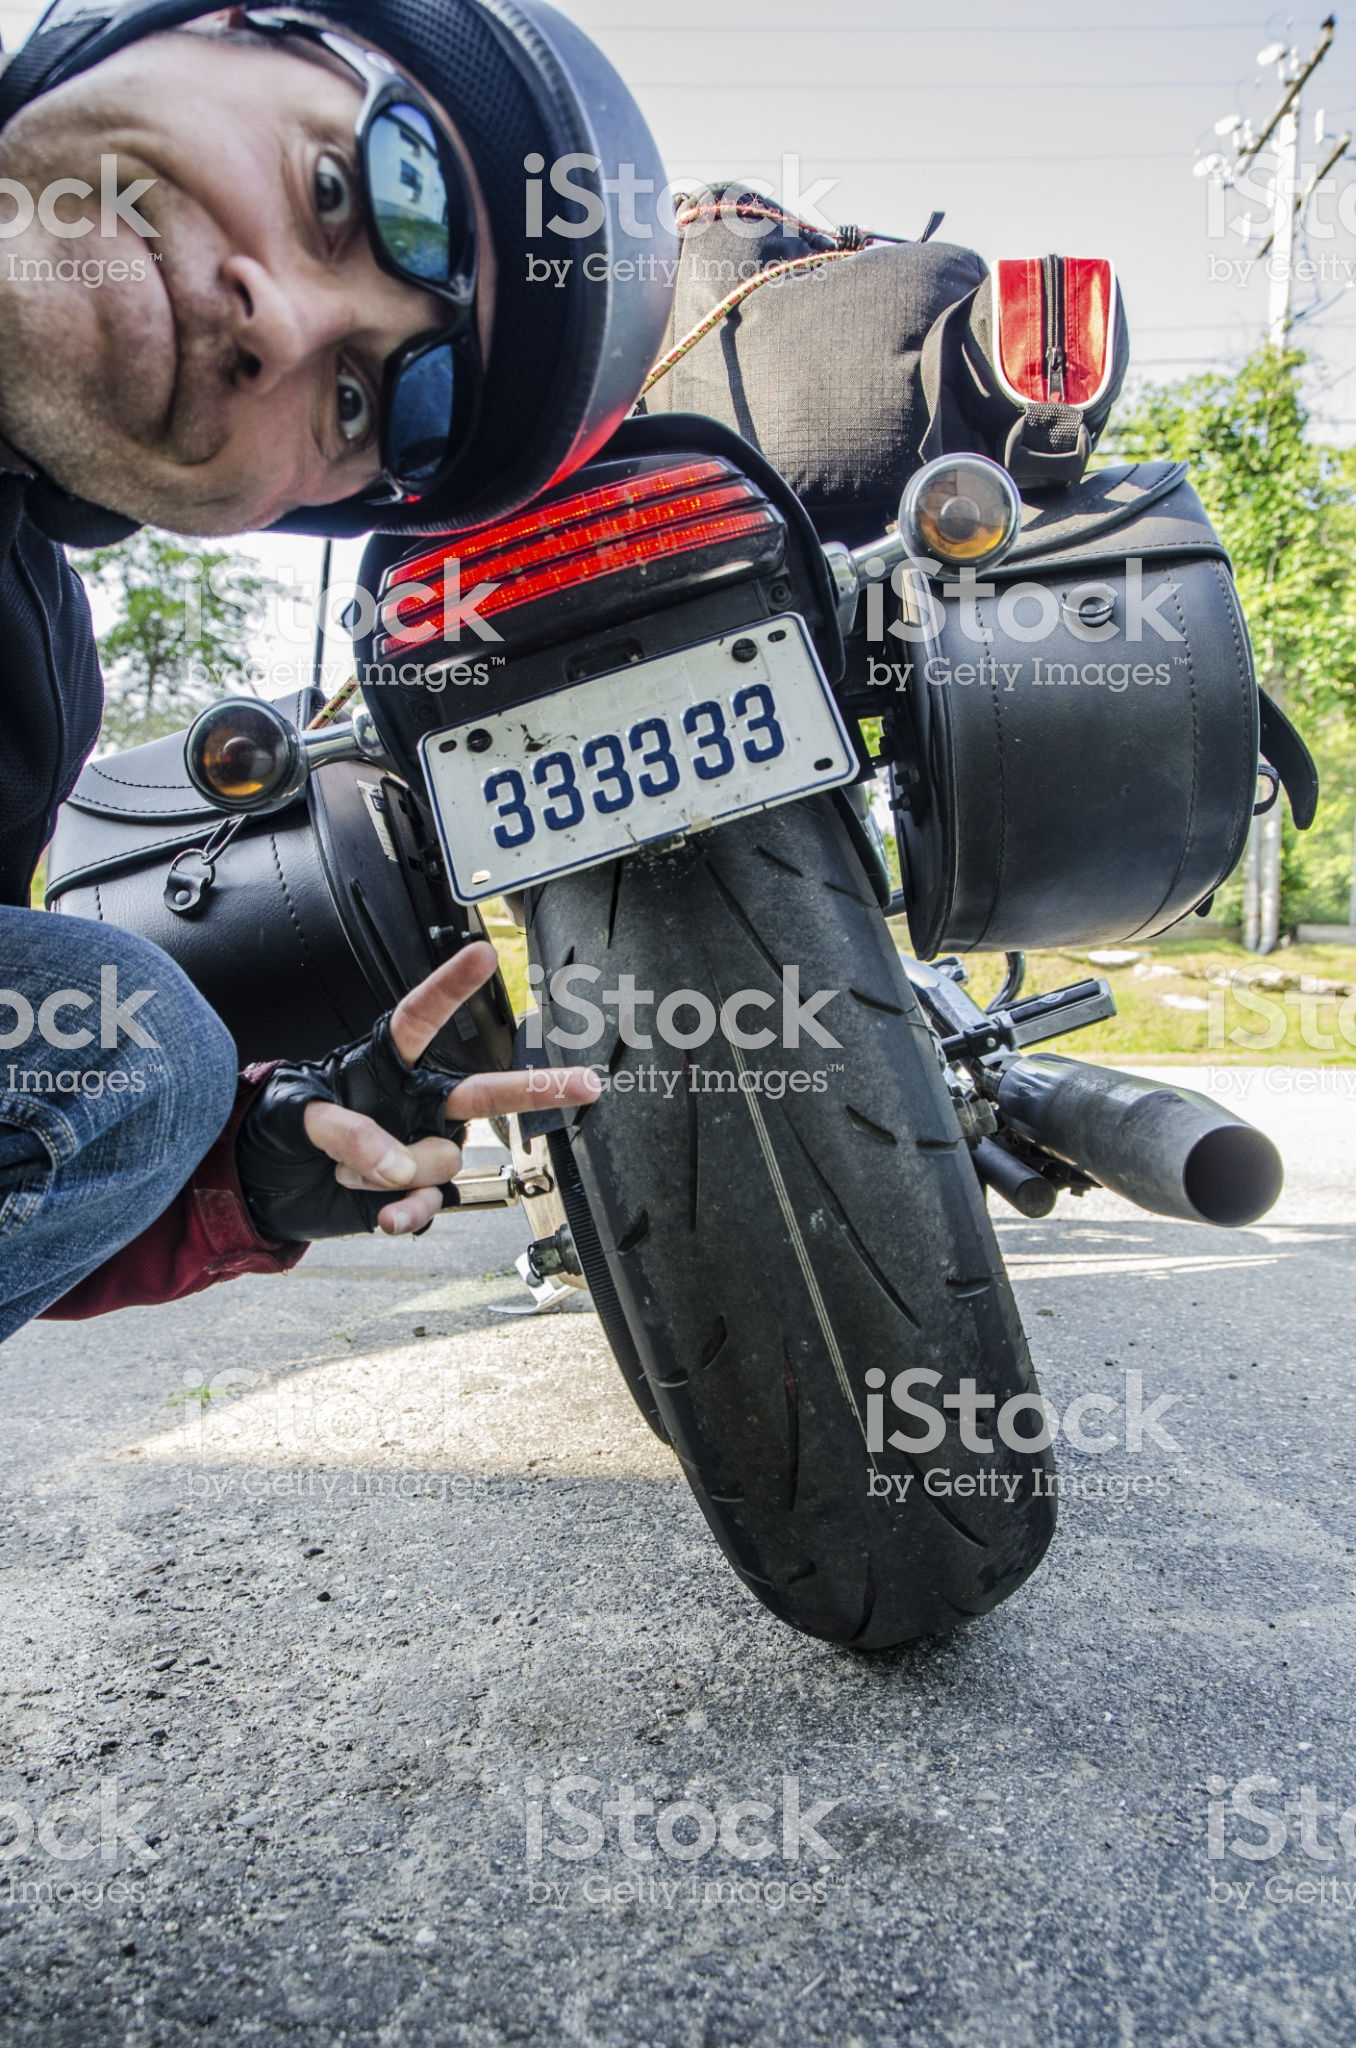helmet: (318, 53, 726, 560)
